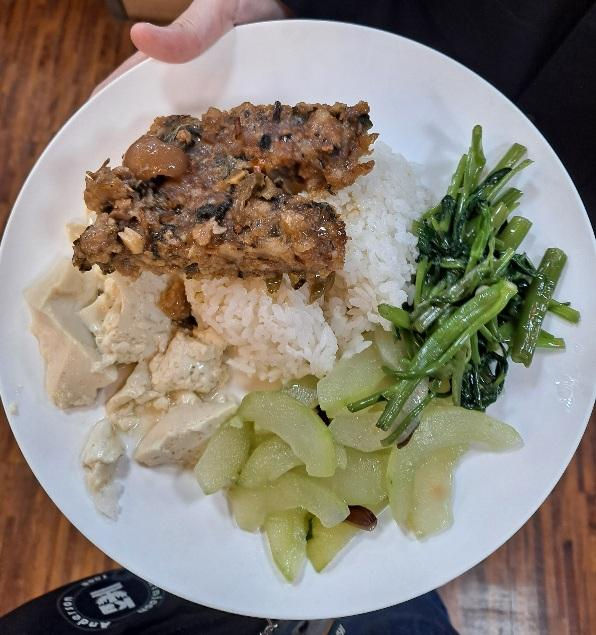big fried chicken leg: (0, 15, 596, 619)
big herbal chicken leg: (185, 133, 433, 370)
braised fish fillet: (198, 359, 496, 569), (25, 270, 252, 477), (399, 132, 565, 411)
braised pork: (68, 90, 379, 288)
